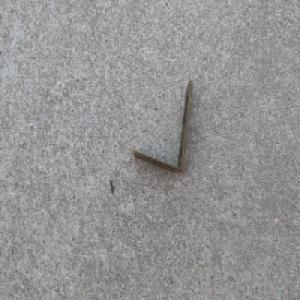MetalPart: (131, 78, 194, 174)
